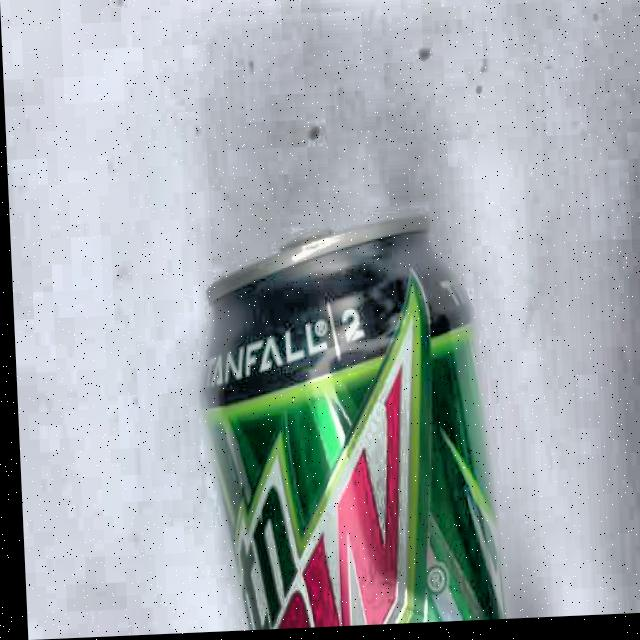metal: (191, 212, 513, 631)
